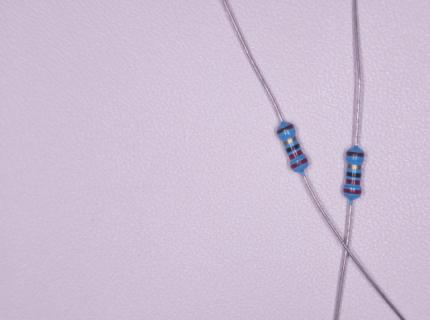Black band: (285, 143, 301, 154), (346, 172, 361, 178)
Brown band: (276, 123, 294, 135), (346, 151, 365, 157)
Gold band: (283, 136, 297, 146), (346, 164, 362, 169)
Red band: (290, 157, 309, 170), (288, 149, 304, 160), (343, 188, 361, 195), (346, 178, 360, 185)
